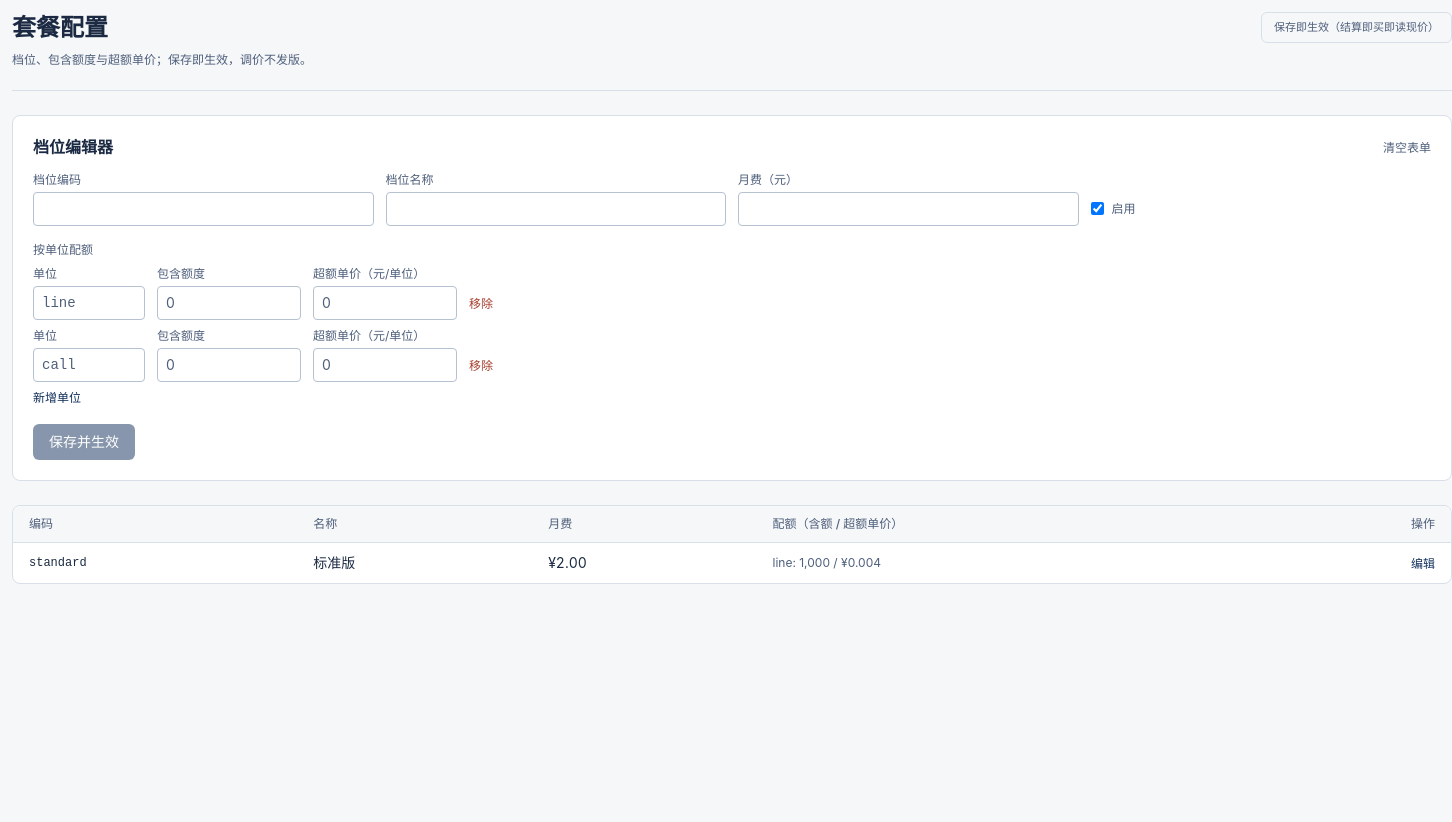
Test: PlansPage › saves an upsert with micro-unit conversion for price and quota
The width and height of the screenshot is (1452, 822).
Expected: the text "standard" is shown, top-left (13, 542), bottom-right (297, 582)
Click the button with test id "plan-edit-standard". click: (1423, 564)
box: top-left (1411, 556), bottom-right (1435, 572)
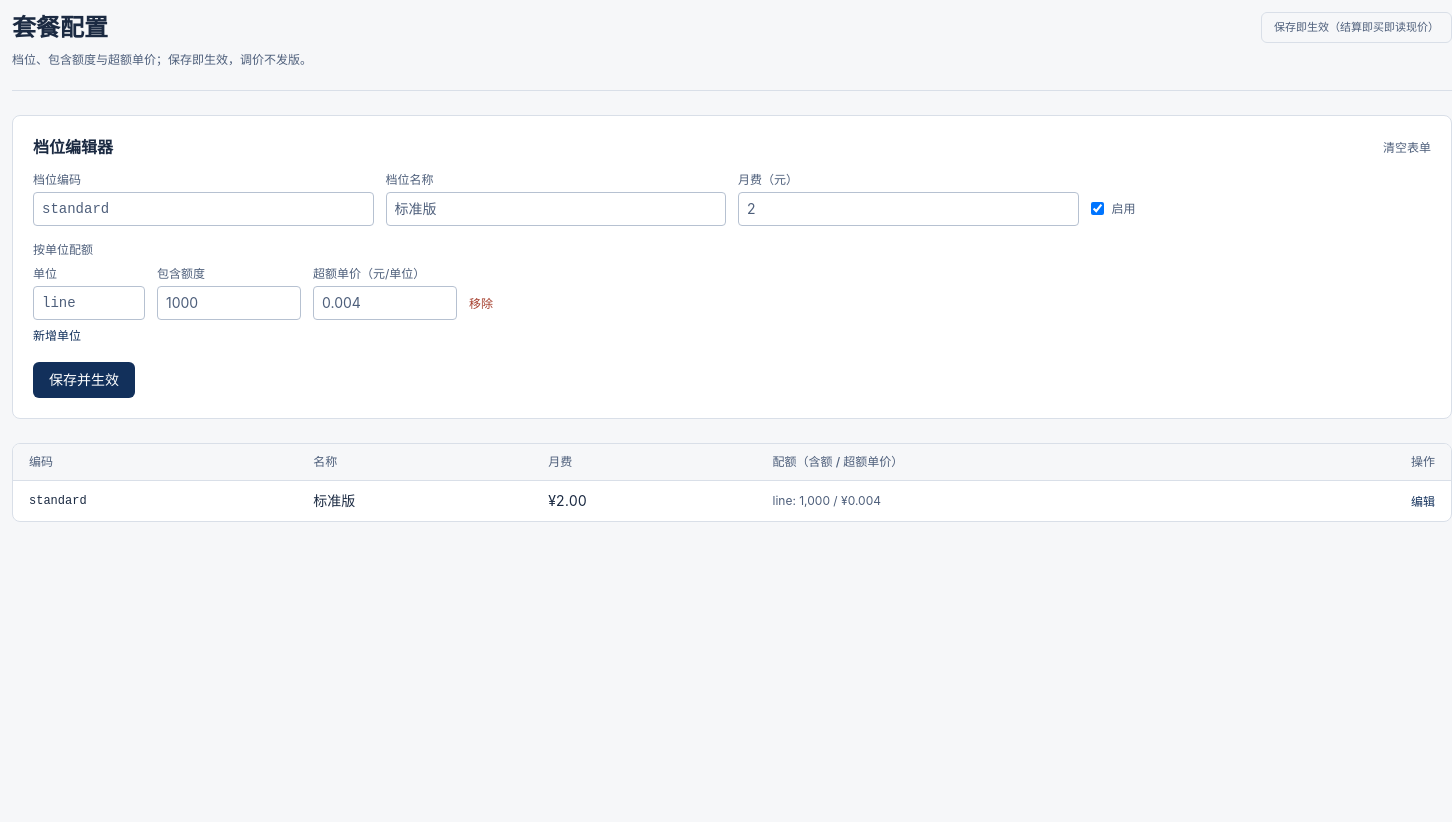
Replace the text in the number field with test id "plan-monthly" with "12.5". click: (908, 208)
box: top-left (738, 192), bottom-right (1078, 226)
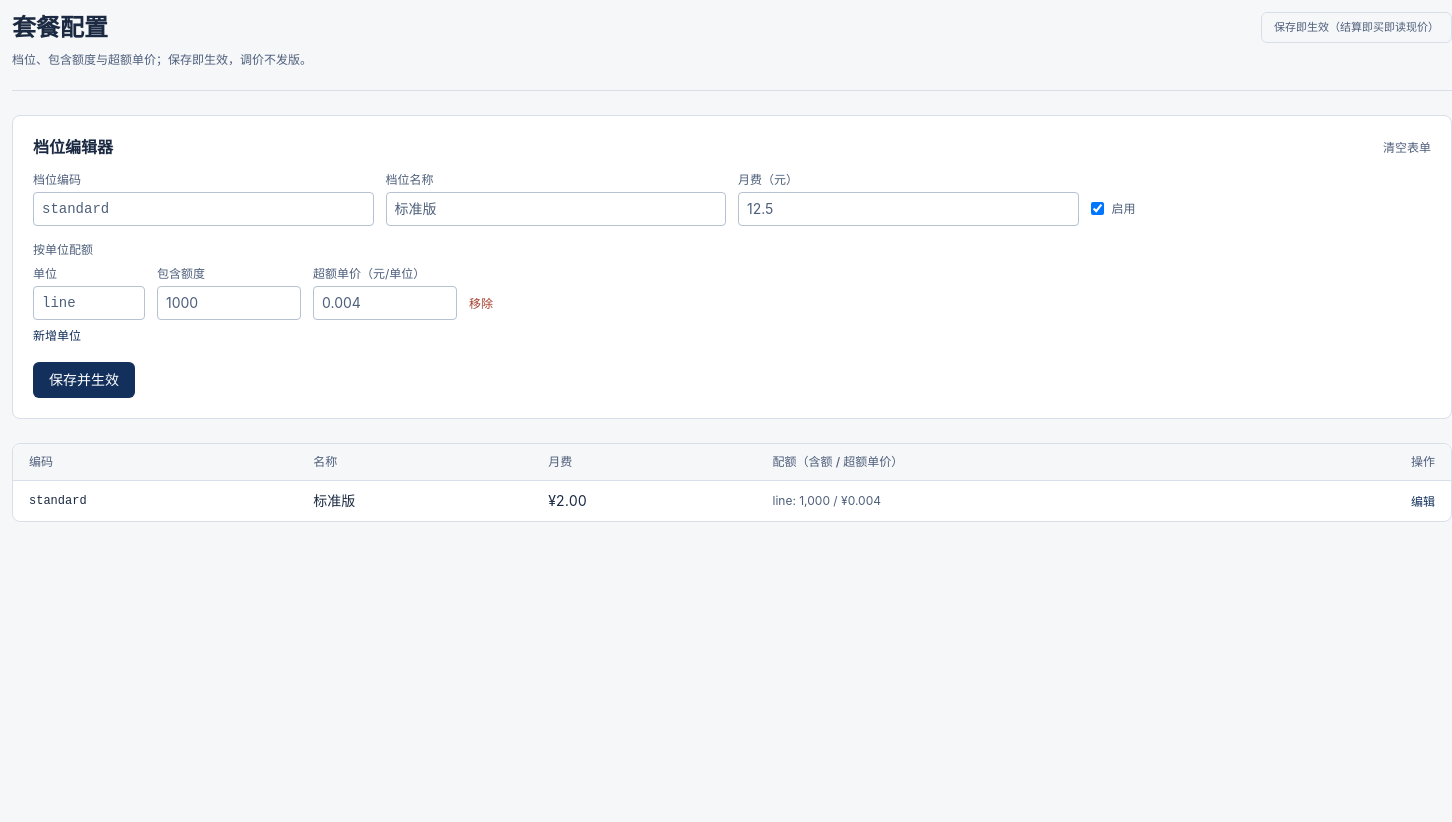
Replace the text in the number field with test id "plan-quota-included-0" with "2000". click: (229, 302)
box: top-left (157, 286), bottom-right (301, 320)
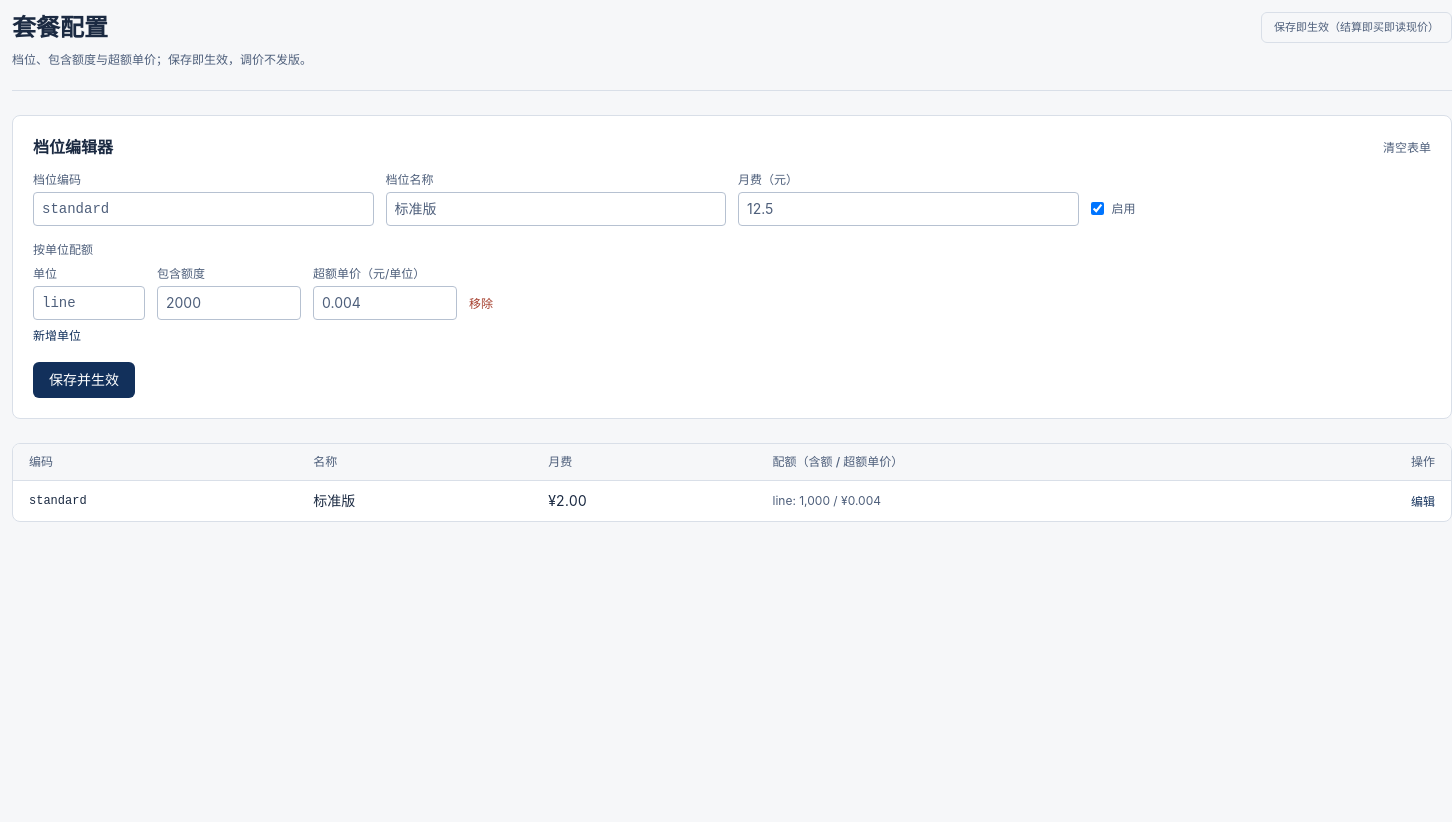
Replace the text in the number field with test id "plan-quota-overage-0" with "0.003". click: (385, 302)
box: top-left (313, 286), bottom-right (457, 320)
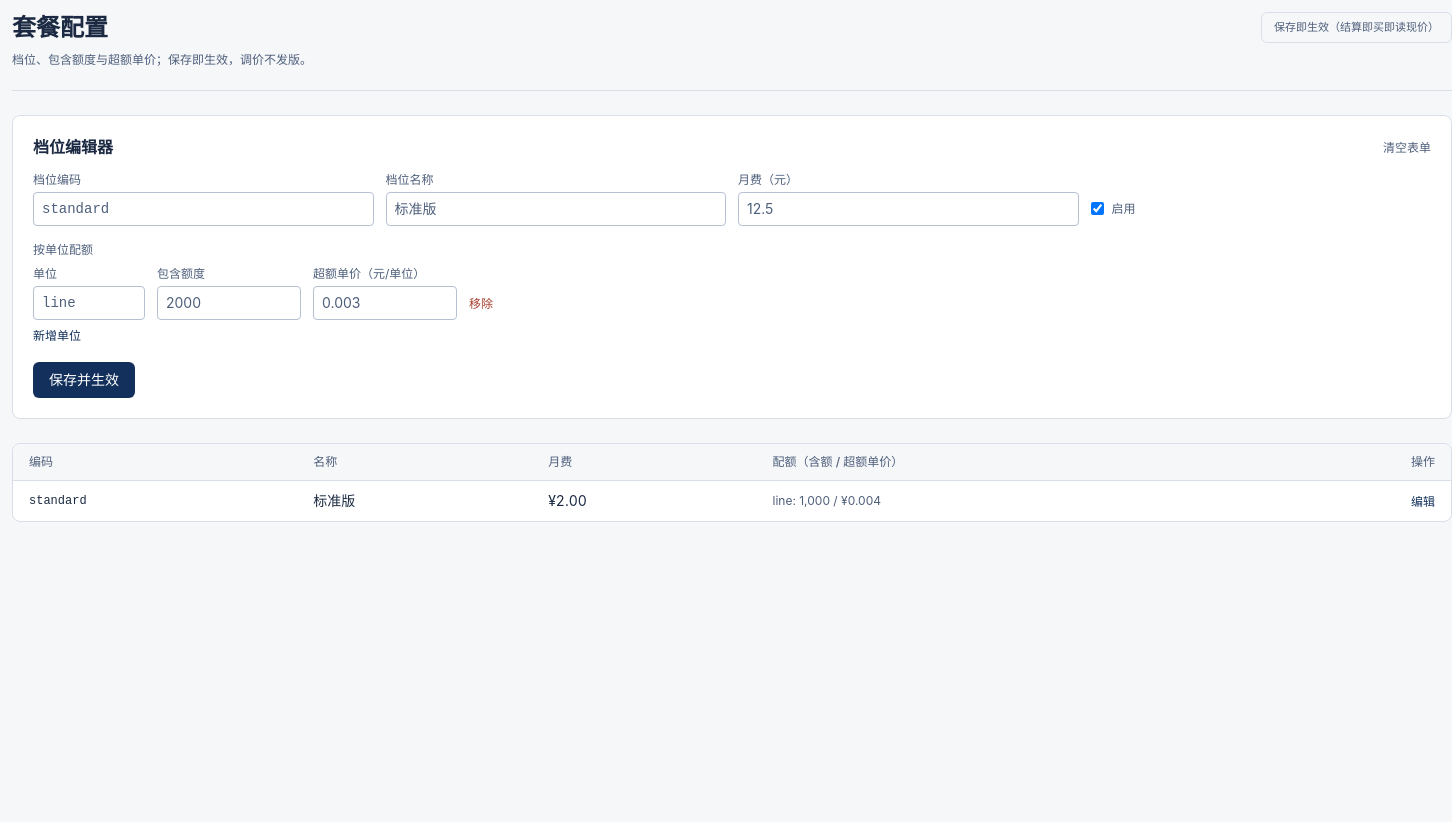
Click the button with test id "plan-save". click: (84, 380)
box: top-left (33, 362), bottom-right (135, 398)
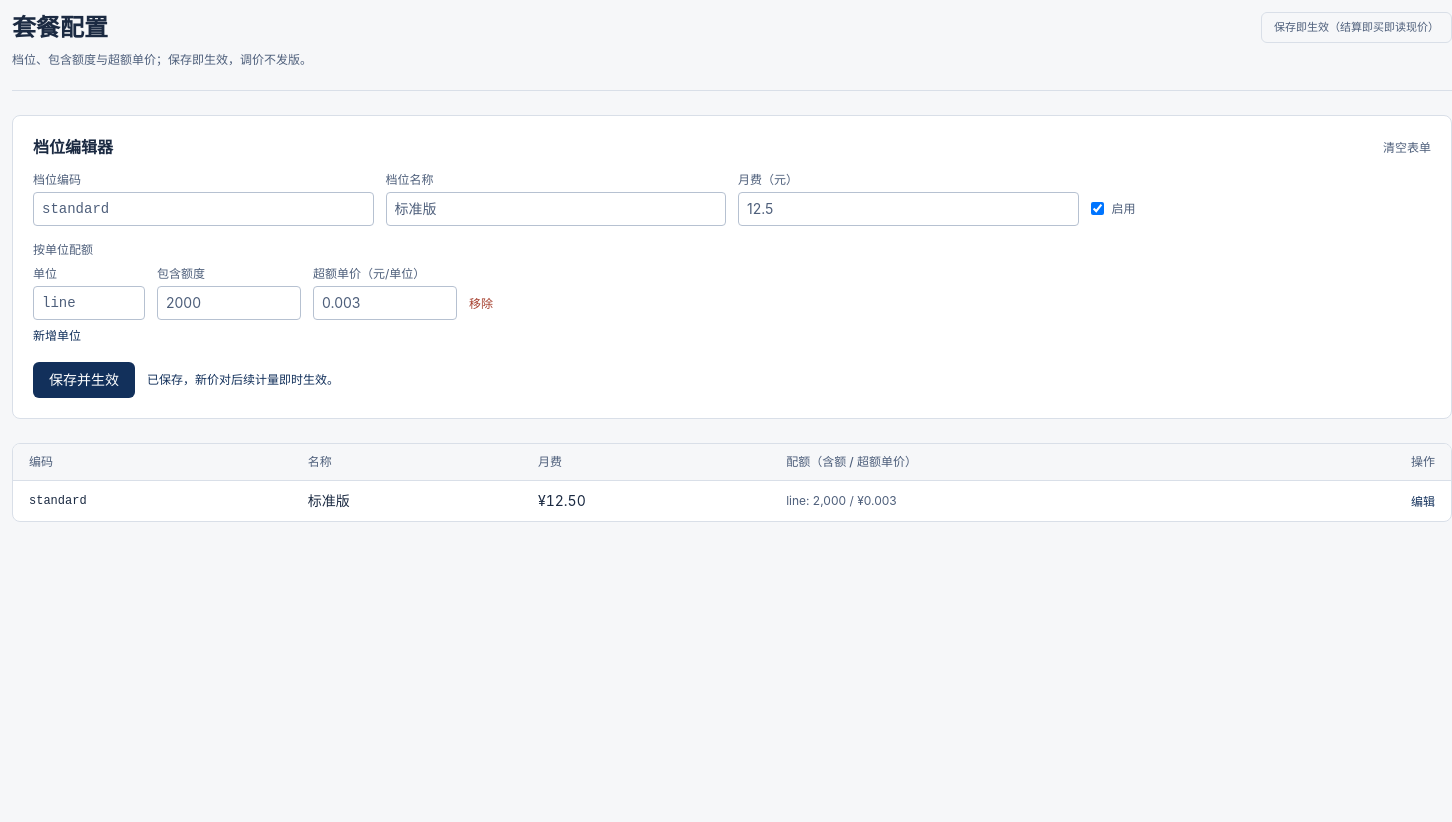
Now the text "已保存，新价对后续计量即时生效。" is shown, box top-left (147, 372), bottom-right (339, 388)
